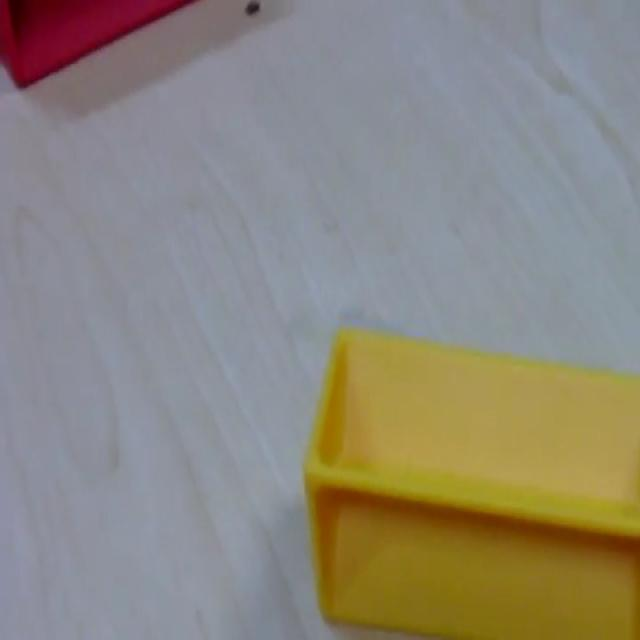yellow_block: (302, 320, 638, 636)
